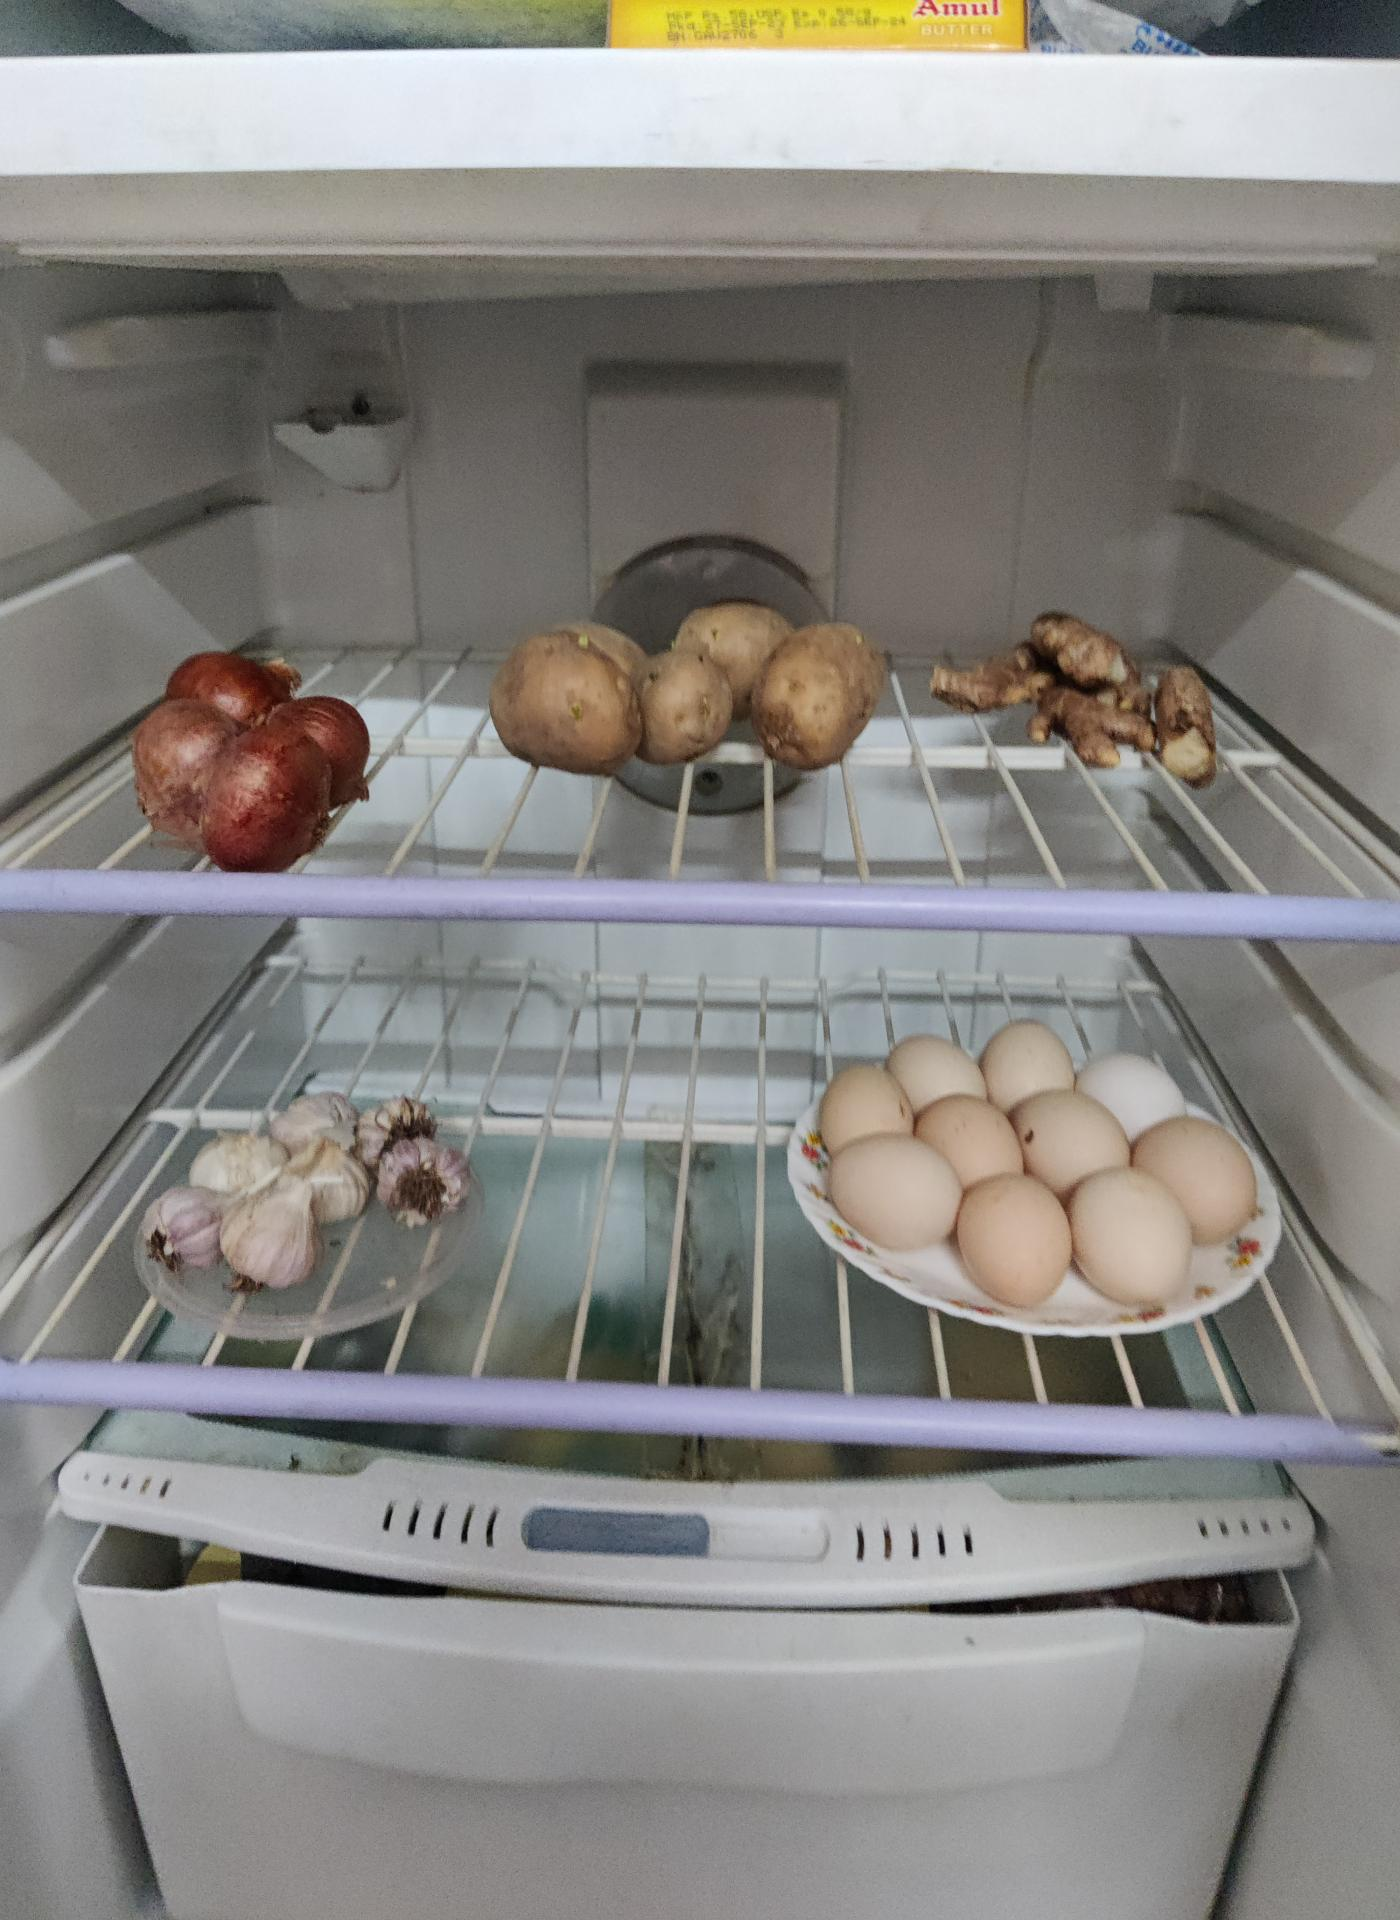egg: (798, 1029, 1269, 1330)
garlic: (148, 1094, 467, 1295)
ginger: (929, 608, 1229, 765)
onion: (136, 651, 379, 875)
potato: (485, 598, 892, 771)
